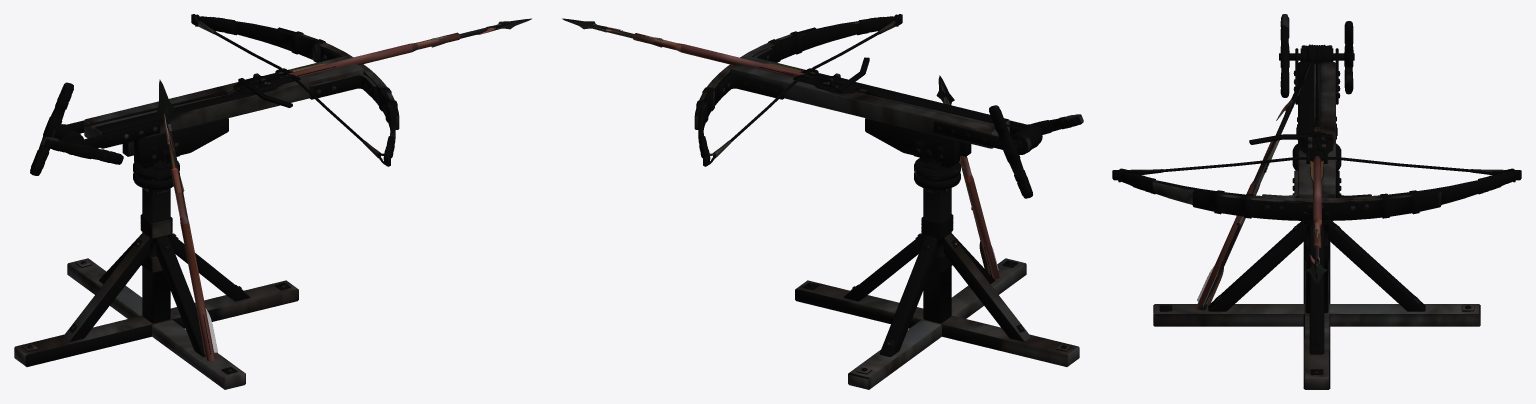
The picture shows the model from 3 angles, left to right: view 1: azimuth 30°, elevation 25°; view 2: azimuth 150°, elevation 25°; view 3: azimuth 270°, elevation 25°; orthographic projection. The views are drawn at different scales.
Parts seen in each view (by area): view 1: mesh_0; view 2: mesh_0; view 3: mesh_0.
Boxes of the visible parts, box(x1,y1,x2,y2) form: mesh_0: box(14, 14, 531, 389); mesh_0: box(562, 14, 1083, 389); mesh_0: box(1112, 14, 1521, 389).
Bounding box in the file's own units: 121 × 57.06 × 80.44.
Materials: 1 (1 with a texture image).
